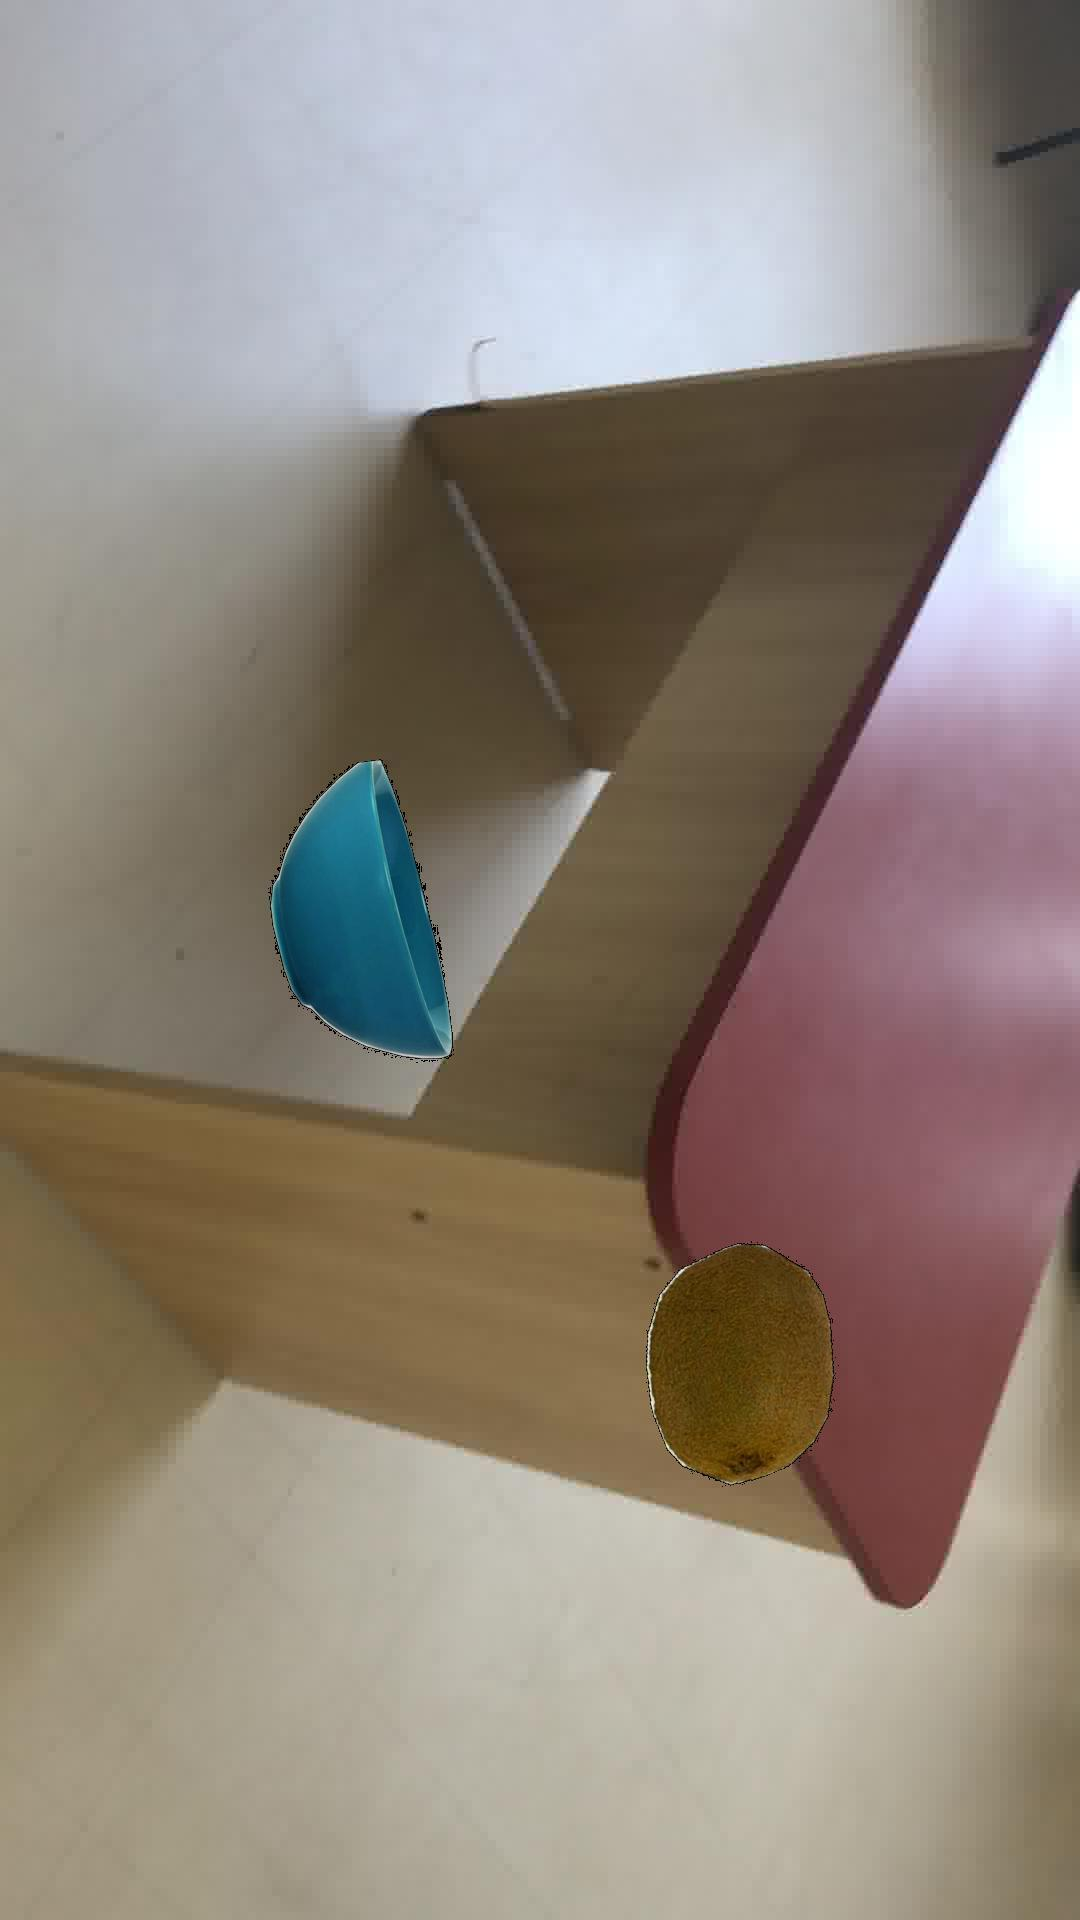bowl: (266, 757, 451, 1058)
kiwi: (645, 1241, 833, 1485)
